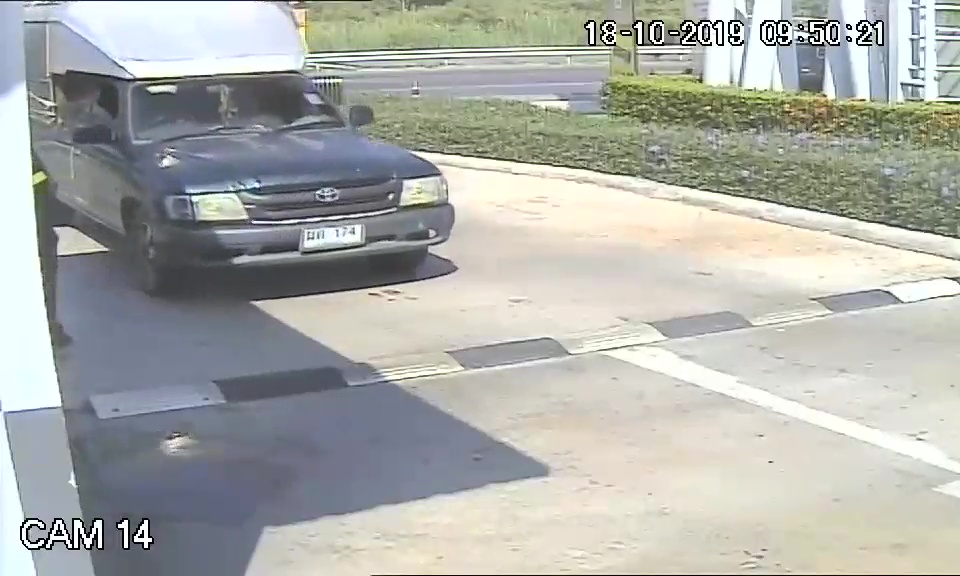pickup: (45, 60, 471, 298)
